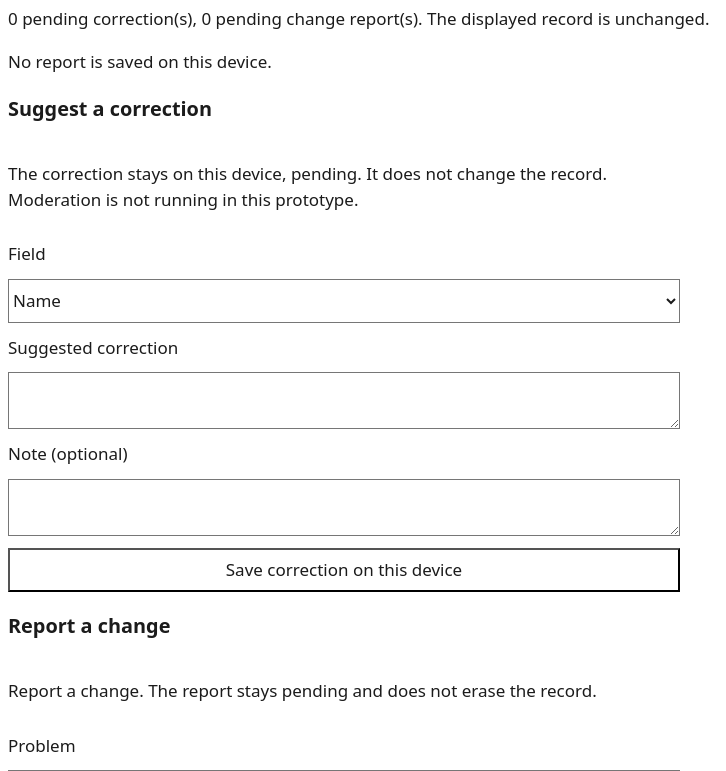
Test: place page accessibility › keeps one heading, the prototype notice, and an unchanged record after a correction
(page scrolled)
Type "A fixture suggestion" into the text box labelled "Suggested correction" at (344, 400), box [8,372,680,429]
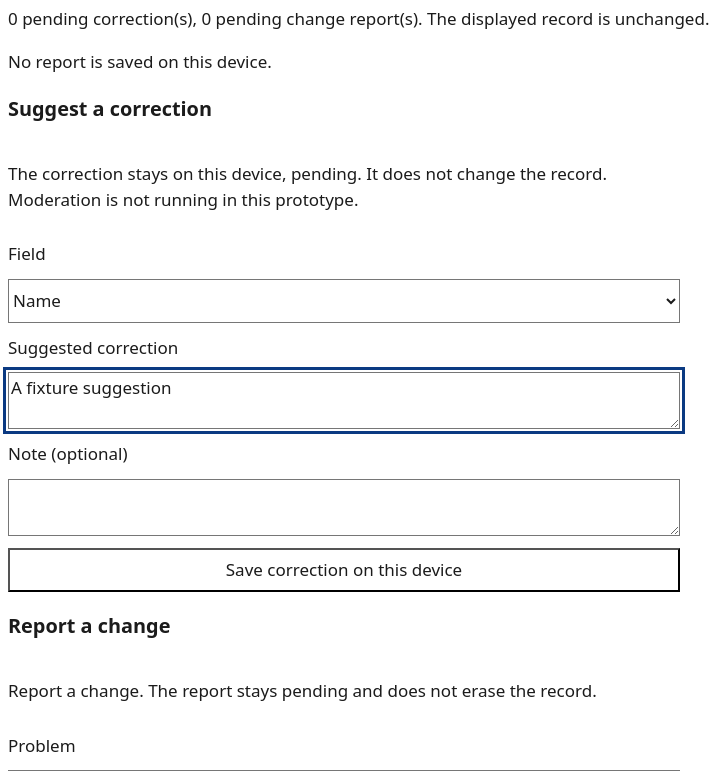
Click the button "Save correction on this device" at (344, 570), box [8,548,680,592]
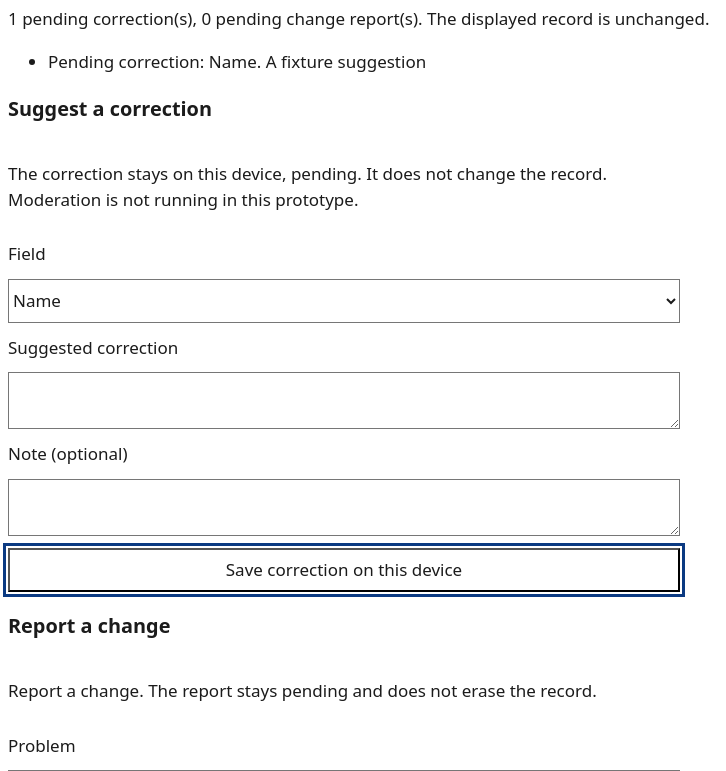
expect the message shows "1 pending correction": met, box [8,7,710,30]
expect the list item "Pending correction: Name. A fixture suggestion" is shown: met, box [48,50,426,73]
